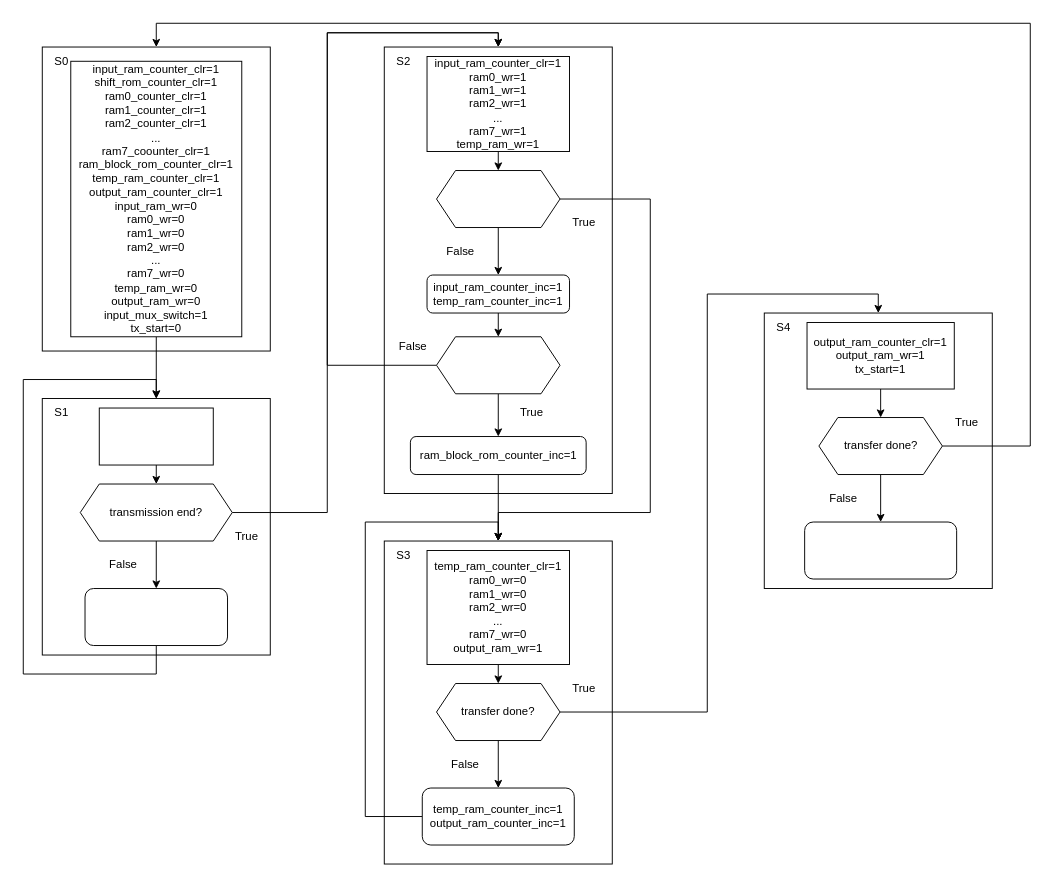
Image size: 1055x881. Some labels were removed from this diagram. Each missing label, with the box of its shape:
done with bucket?: (436, 336, 560, 394)
input_ram_counter_inc=1: (84, 588, 228, 646)
input_ram_write=1: (98, 407, 213, 465)
output_ram_counter_inc=1: (804, 521, 957, 579)
sorting done?: (436, 170, 560, 228)
